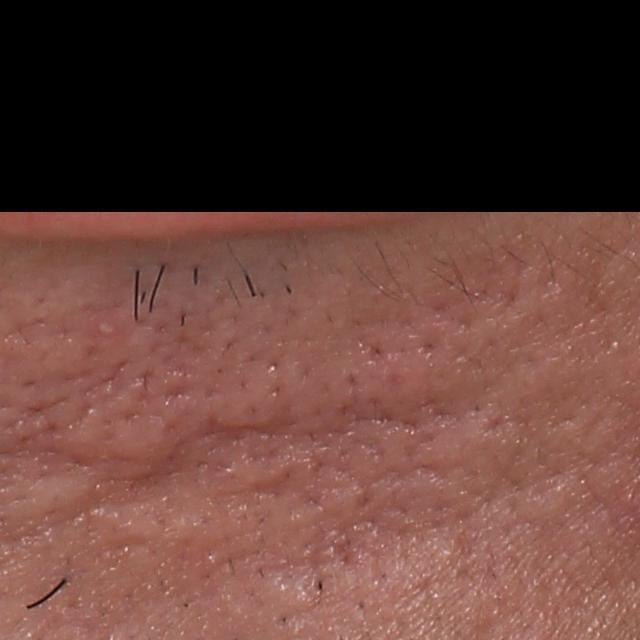hypertrophic_scar: (80, 266, 572, 622), (56, 413, 176, 477), (208, 397, 281, 433)
pustule: (91, 313, 130, 342)
